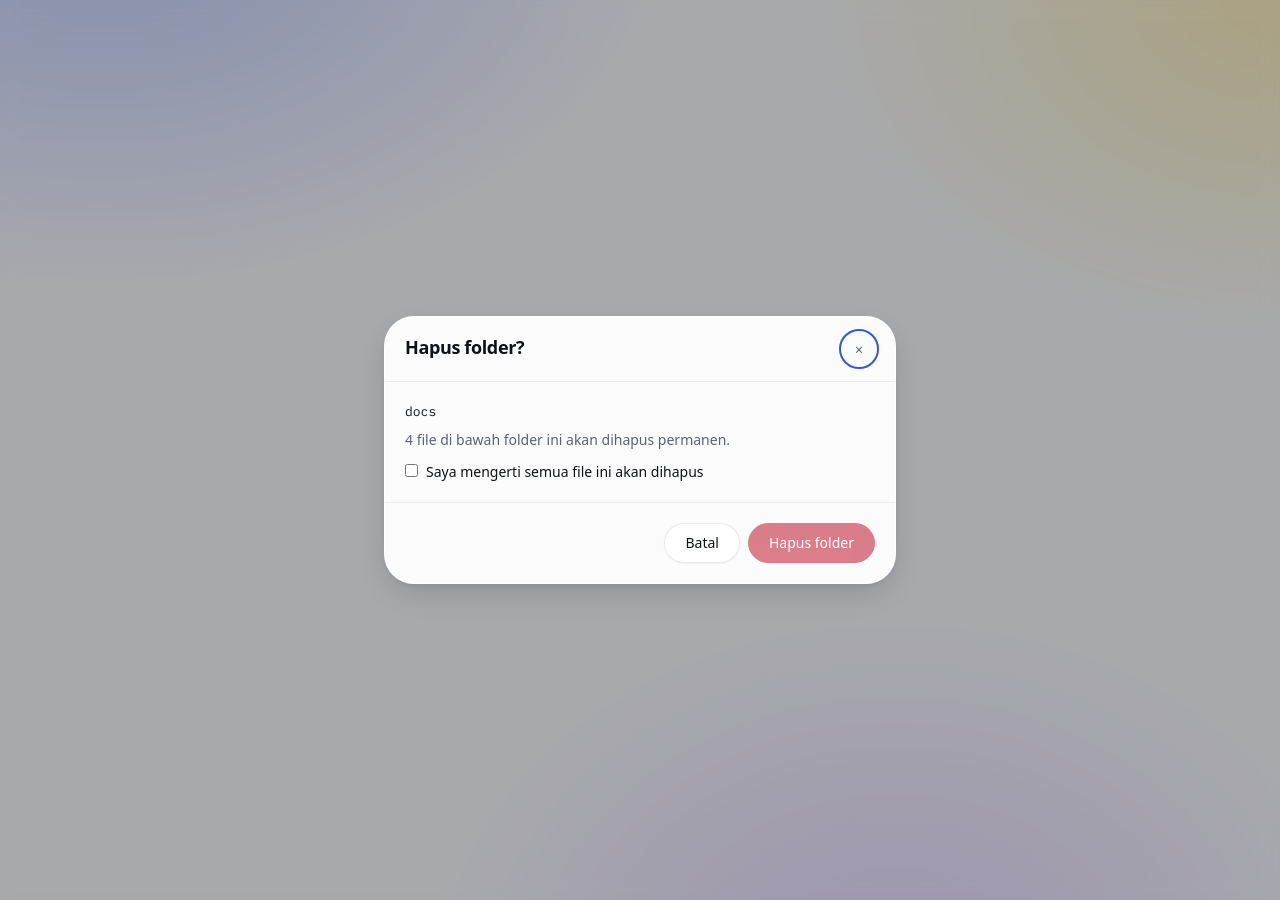
Test: DeleteFolderDialog › shows the file count and requires the acknowledgement
Expected: the text "4 file di bawah folder ini akan dihapus permanen." is shown, [405,430,730,449]
Expected: the button "Hapus folder" is disabled, [748,523,875,563]
Click the checkbox. click: (412, 470)
box: [405,464,418,477]
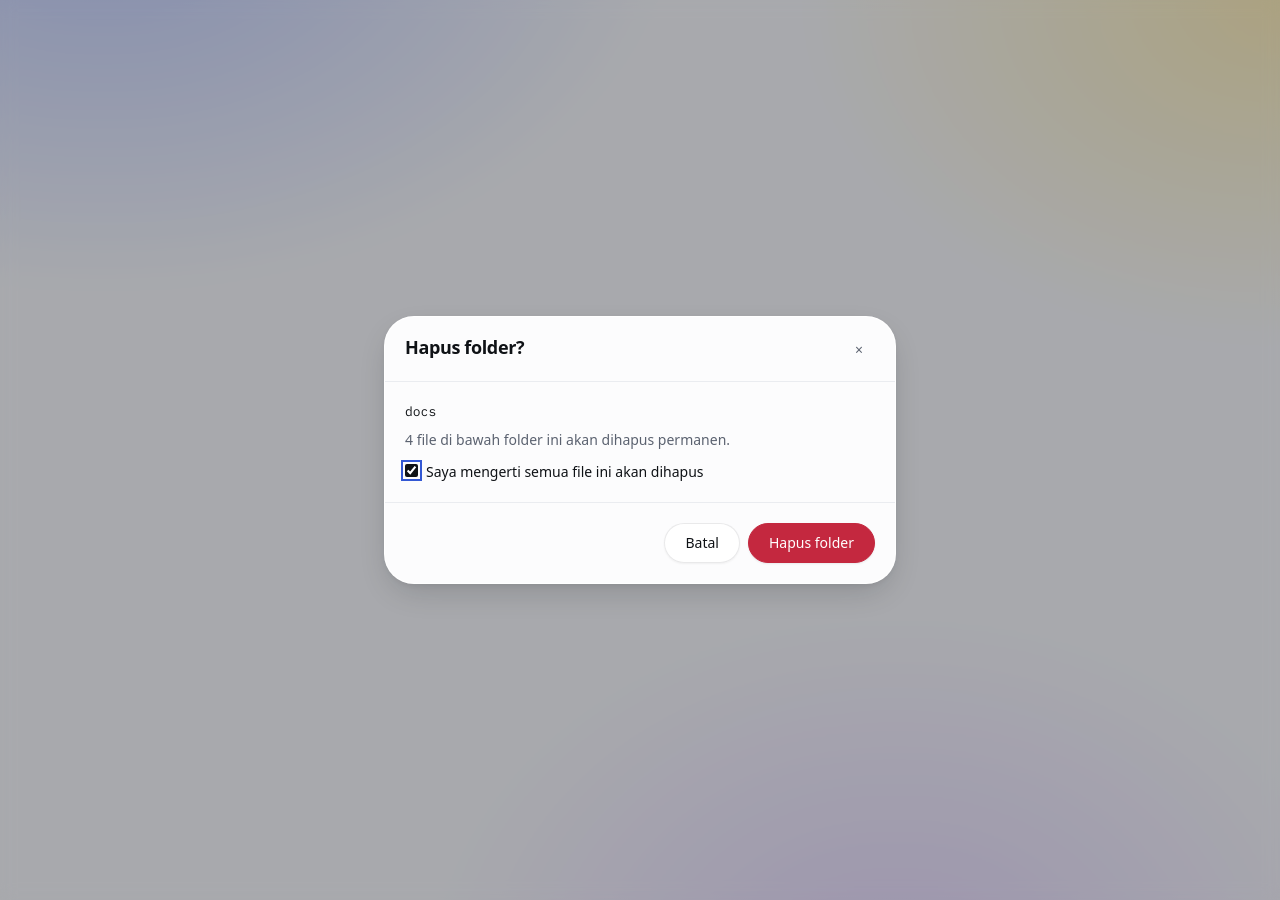
Now the button "Hapus folder" is enabled, box [748,523,875,563]
